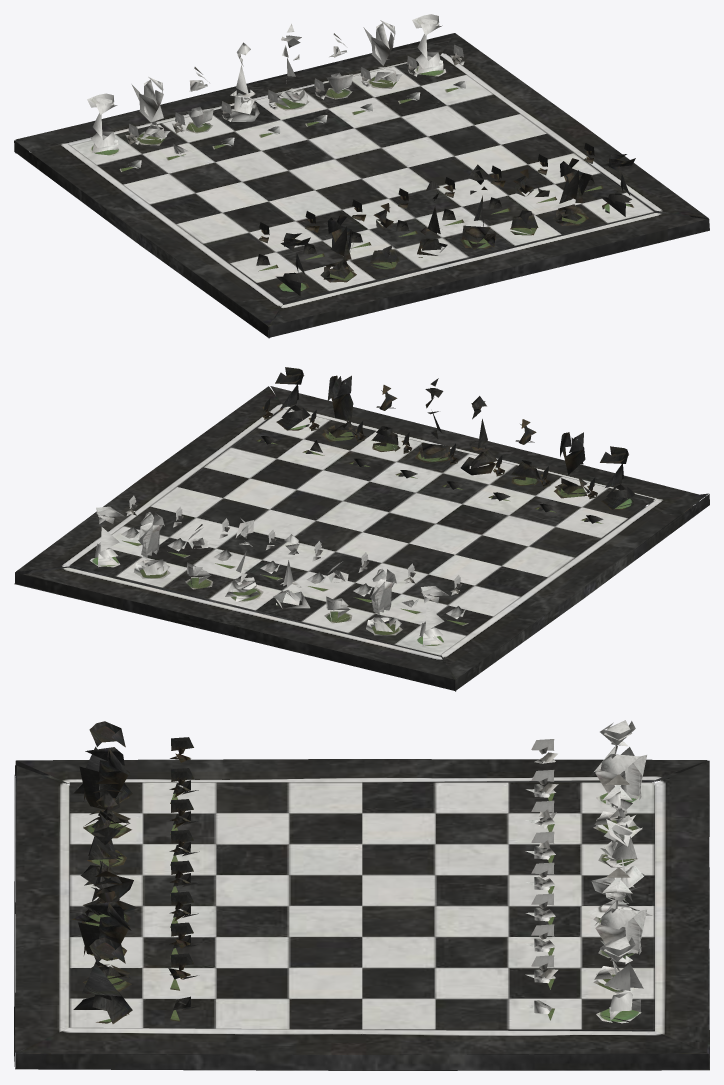
Rendered from ph_chess_set.glb.
3 renders of one model, top to bottom at view 1: azimuth 30°, elevation 25°; view 2: azimuth 150°, elevation 25°; view 3: azimuth 270°, elevation 25°, orthographic. The views are drawn at different scales.
Visible parts, largest first — view 1: piece_rook_white_01; view 2: piece_rook_white_01; view 3: piece_rook_white_01.
Boxes of the visible parts, <box> form: piece_rook_white_01: <box>14,14,709,338</box>; piece_rook_white_01: <box>14,367,709,691</box>; piece_rook_white_01: <box>14,720,709,1070</box>.
Size of the model in its own units: 0.5532 by 0.1111 by 0.551.
3 materials, 3 textured.
